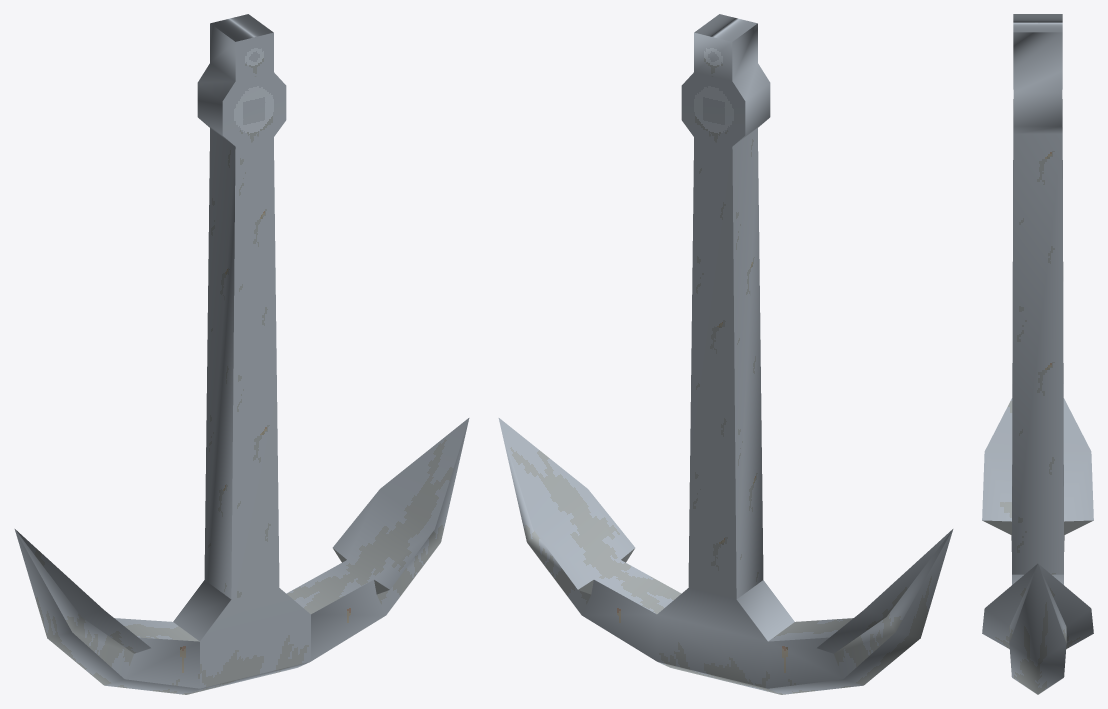
The model's file is 0468_Anchor.glb.
The picture shows the model from 3 angles, left to right: view 1: azimuth 30°, elevation 25°; view 2: azimuth 150°, elevation 25°; view 3: azimuth 270°, elevation 25°; orthographic projection. The views are drawn at different scales.
Visible parts, largest first — view 1: part_0; view 2: part_0; view 3: part_0.
Boxes of the visible parts, x1,y1,x2,y2 form: part_0: (14, 14, 469, 694); part_0: (498, 14, 953, 694); part_0: (982, 14, 1093, 694).
Size of the model in its own units: 7.12 by 9.76 by 1.56.
Materials: 1 (1 with a texture image).
